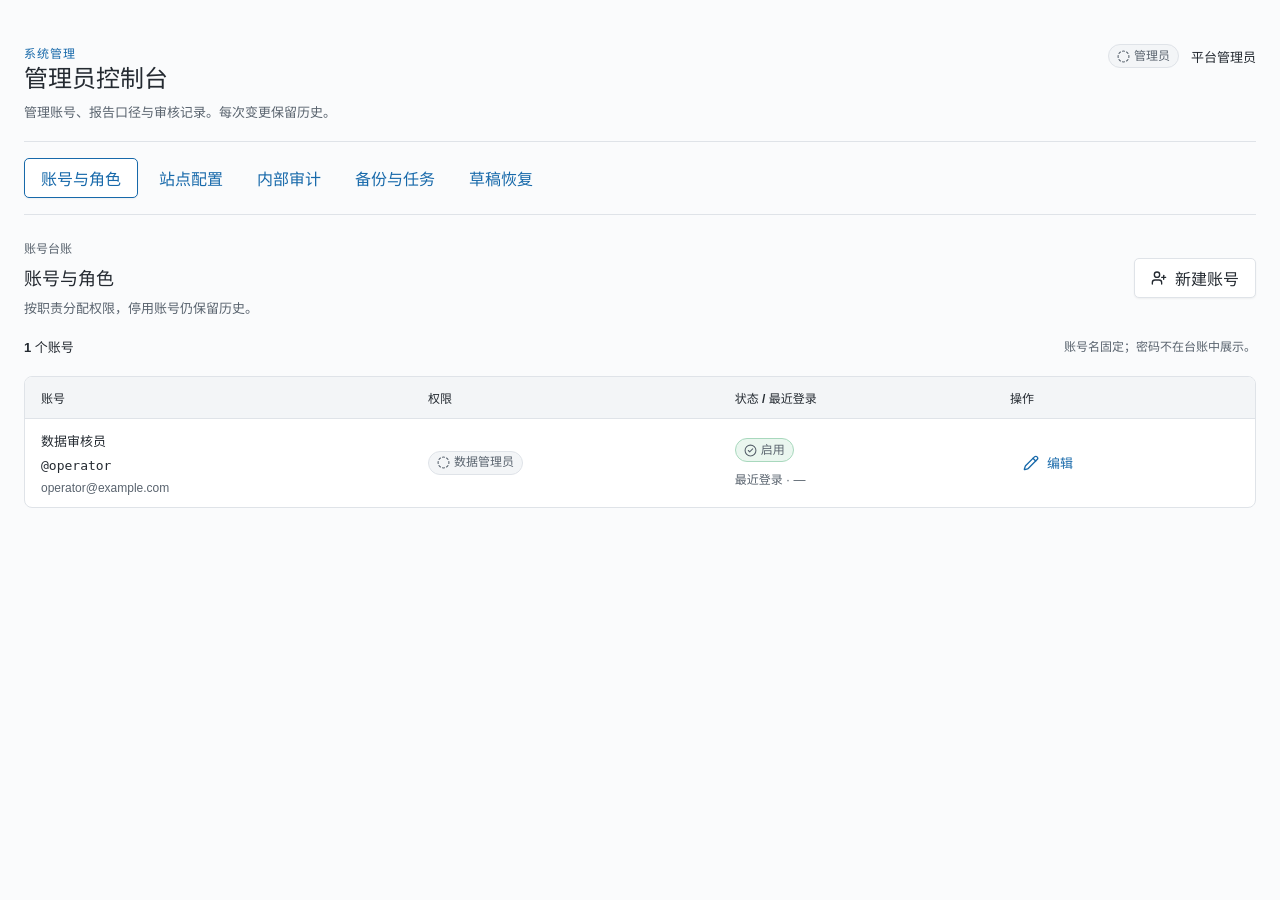
Test: AdminConsole › saves an account update without sending a password when the password field is blank
Click the button with aria-label "编辑 operator" at (1048, 463), box [1010,445,1086,481]
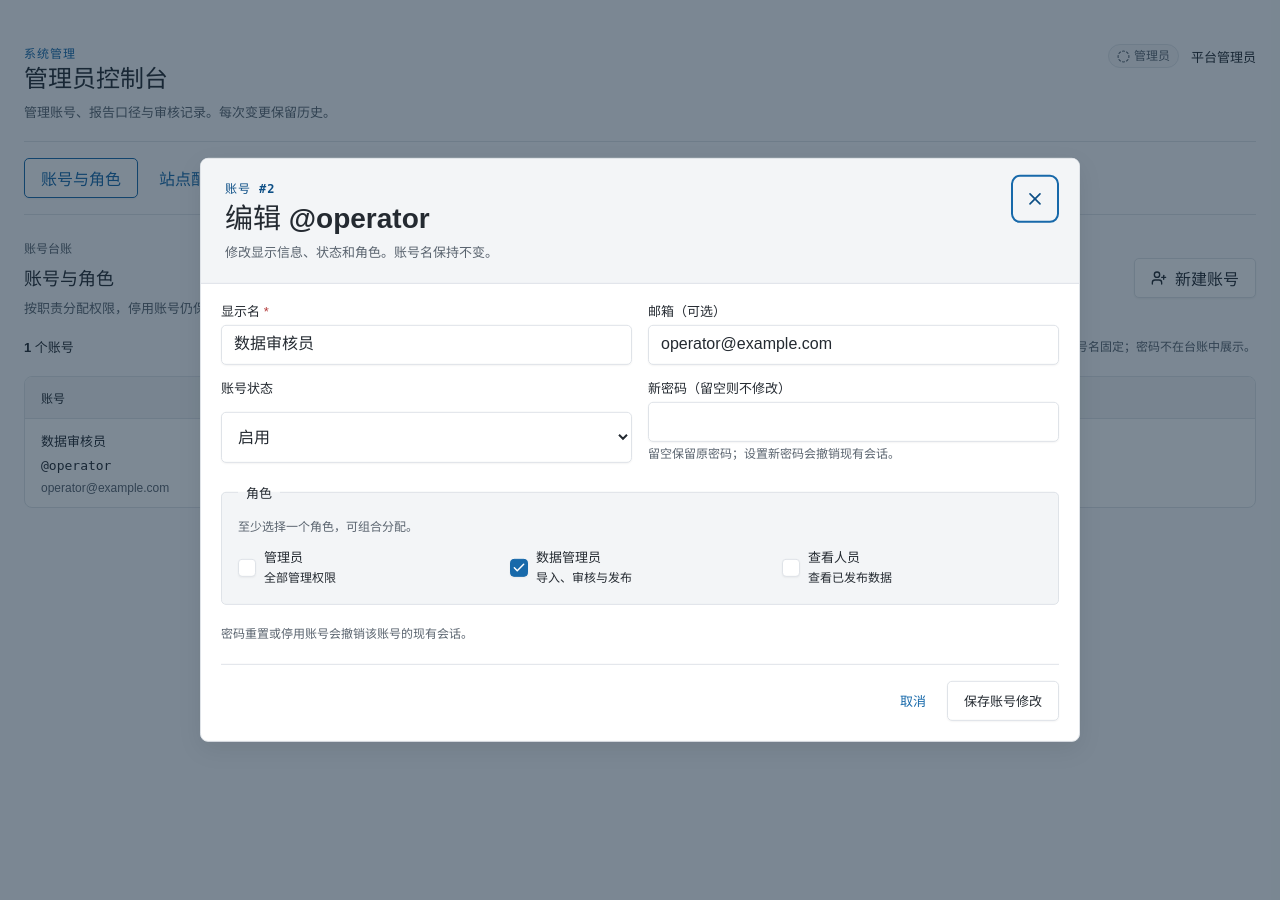
Replace the text in the field labelled "显示名" with "审核负责人" at (426, 345), box [221,325,632,365]
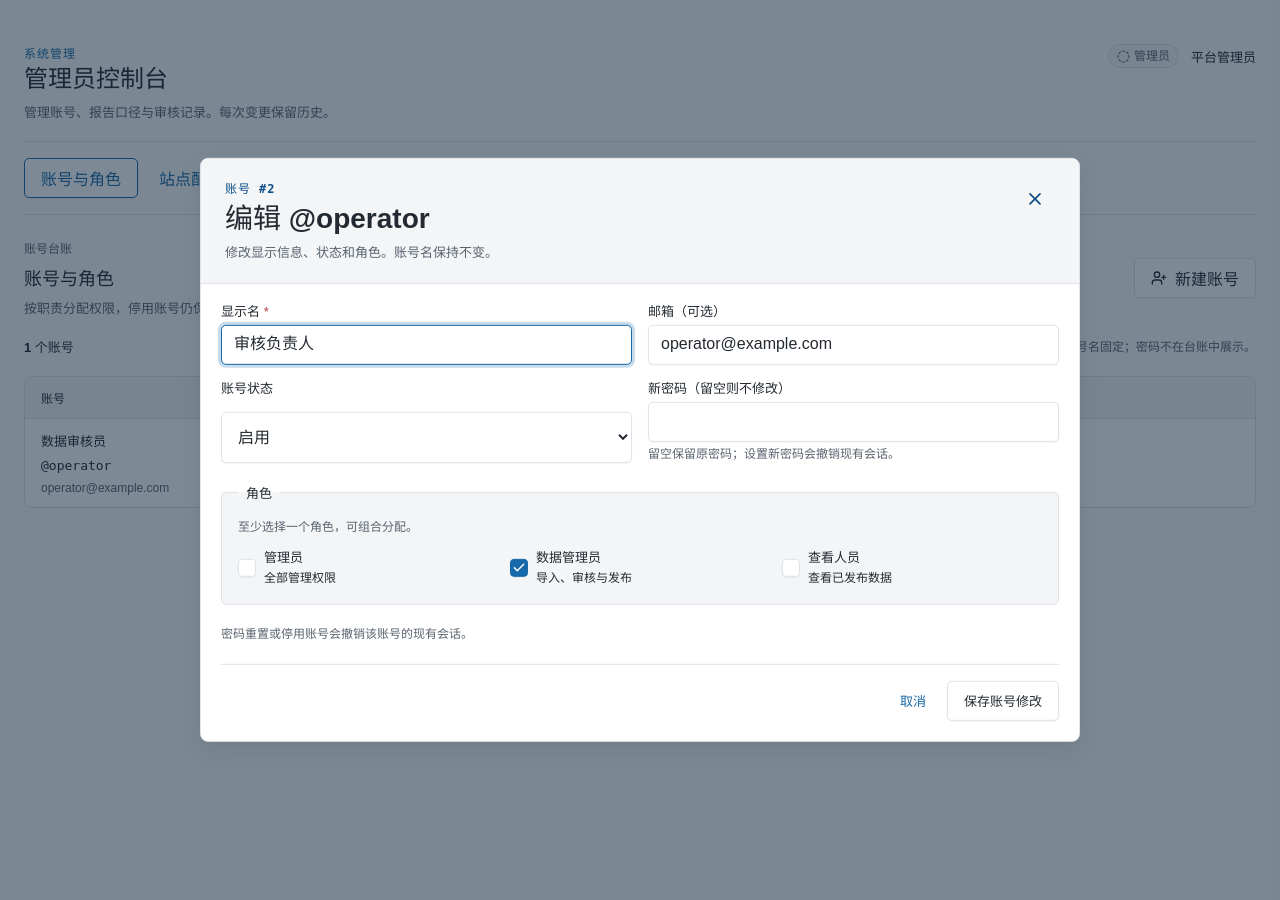
Clear the field labelled "邮箱（可选）" at (854, 345), box [648,325,1059,365]
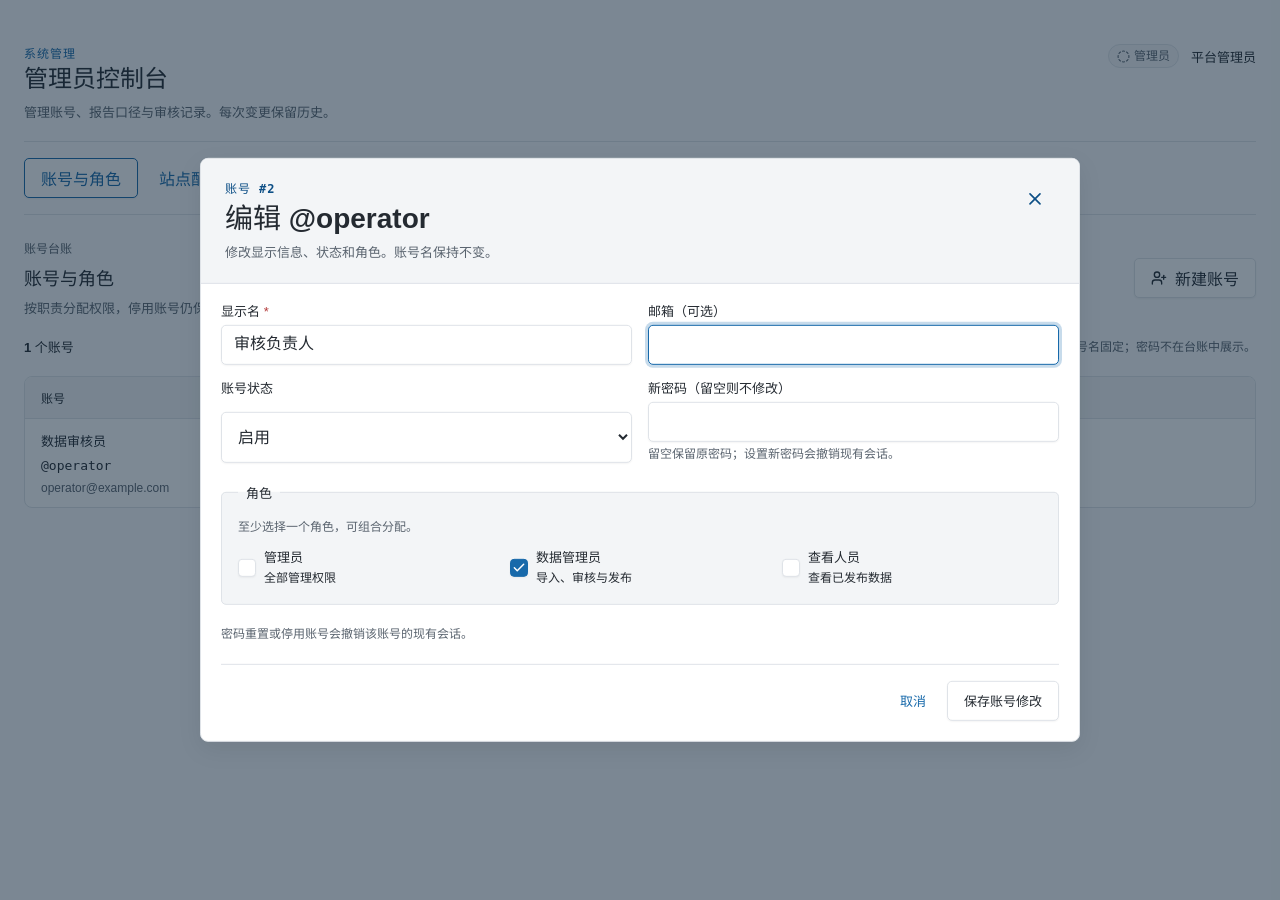
Click the checkbox labelled "数据管理员" at (519, 568), box [510,559,528,577]
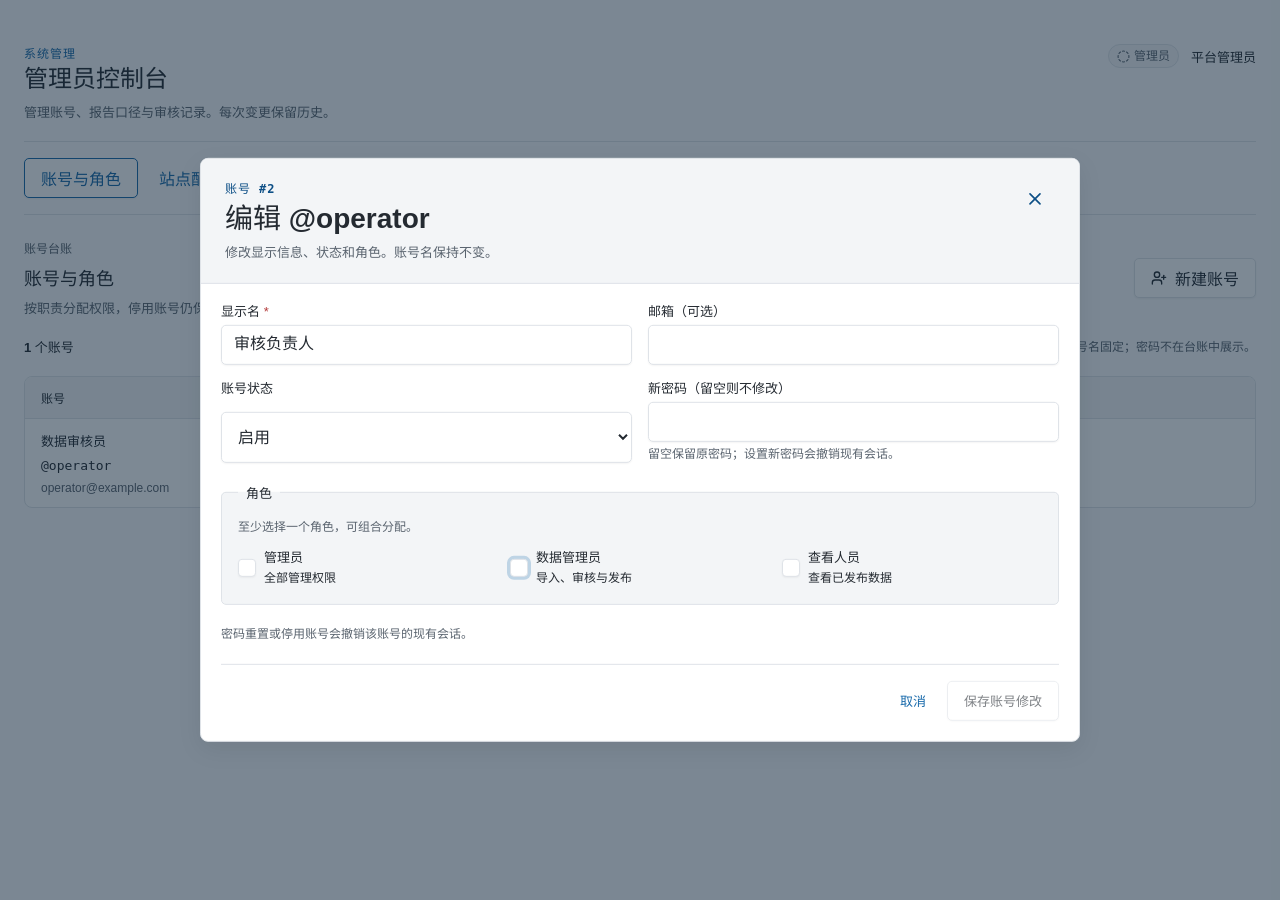
Click the checkbox labelled "查看人员" at (791, 568), box [782,559,800,577]
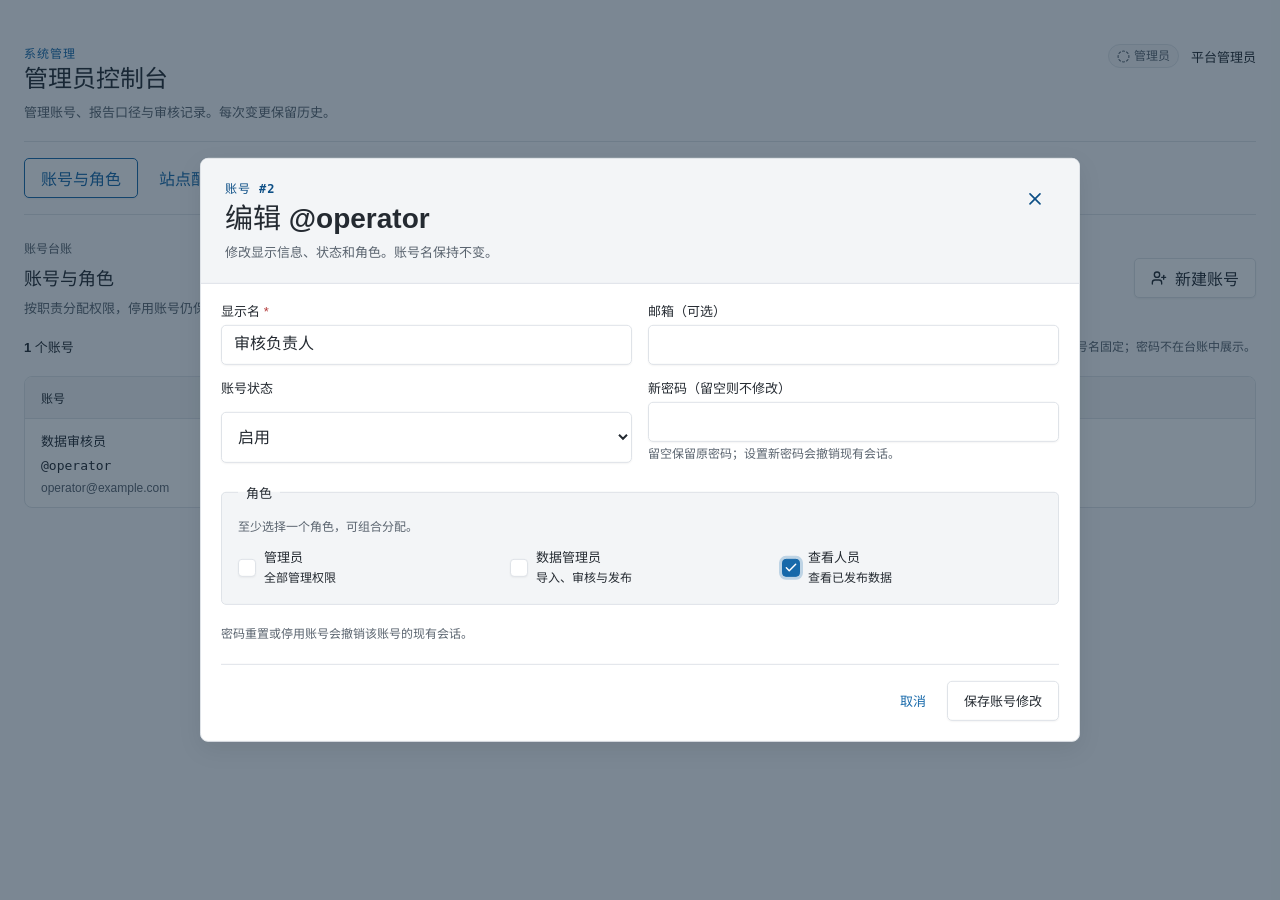
Click the button "保存账号修改" at (1003, 701), box [947,681,1059,721]
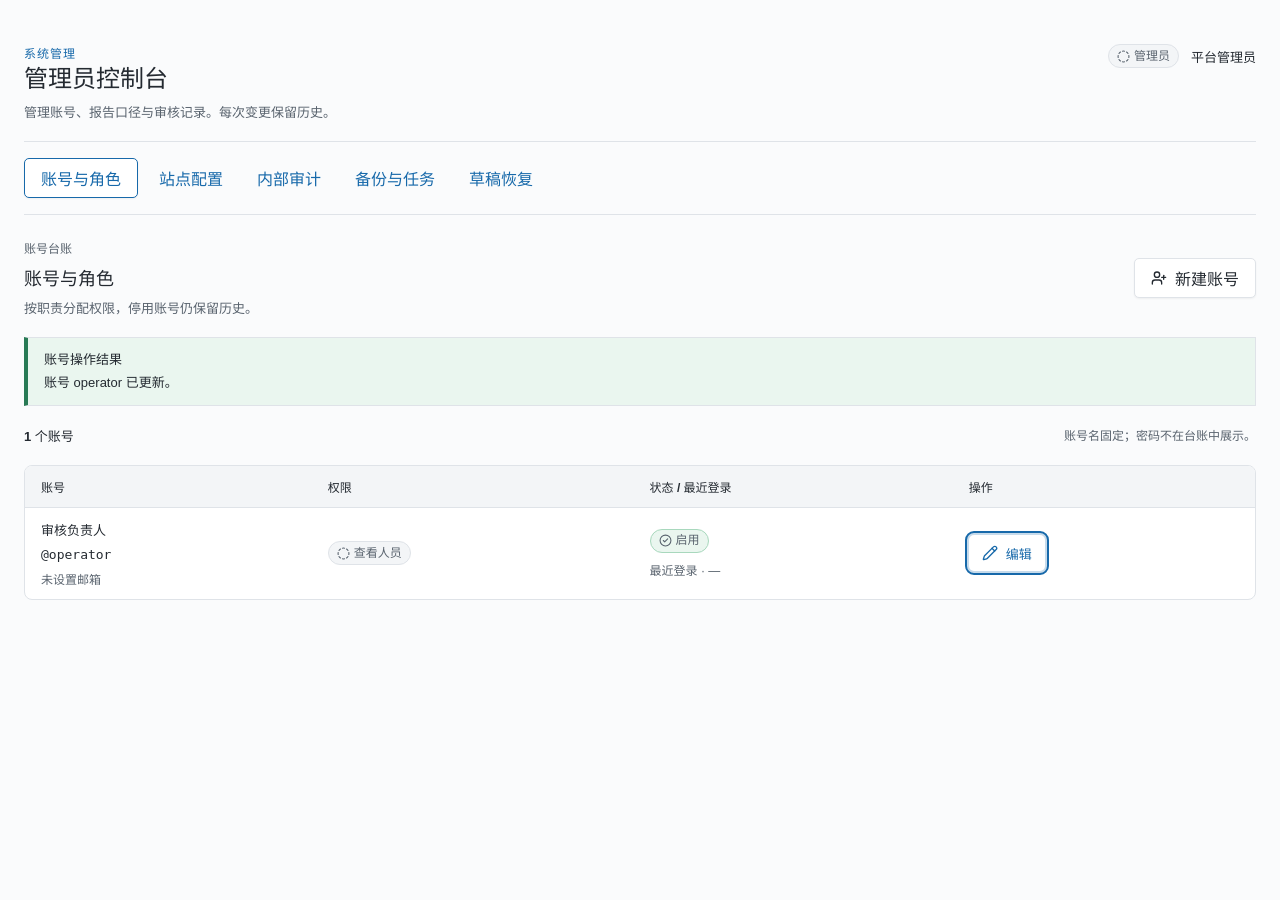
Now the text "账号 operator 已更新。" is shown, box [44,373,178,393]
